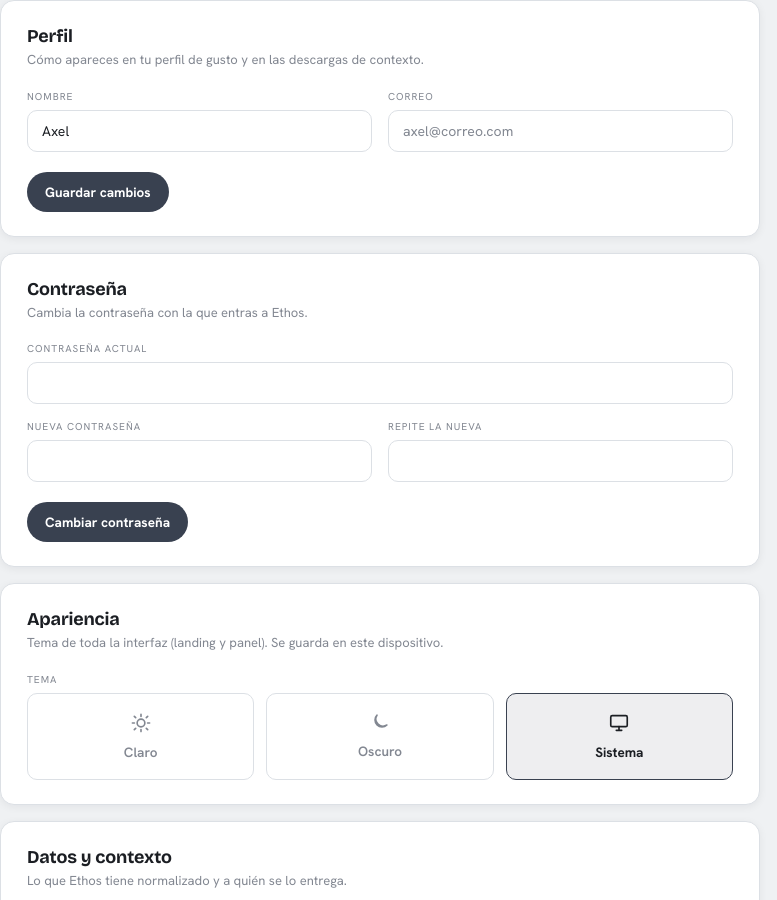
Test case: Settings › guarda el nombre editado en Supabase
Replace the text in the field named "Nombre" with "Axel HR" at (200, 130), box [27,110,372,152]
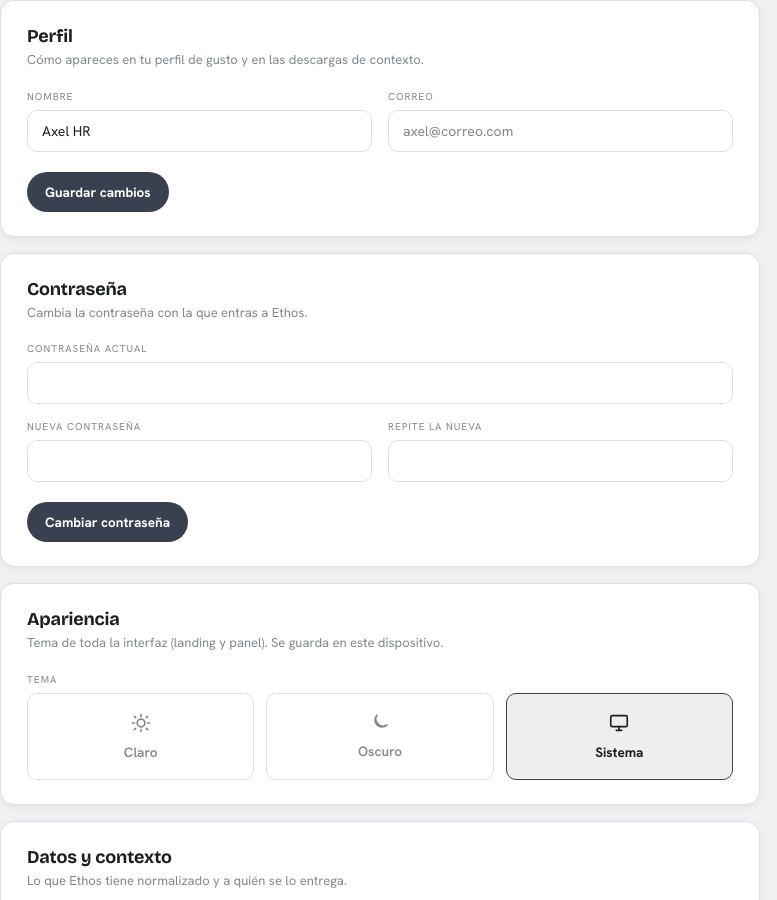
Click the button "Guardar cambios" at (98, 192), box [27,172,169,212]
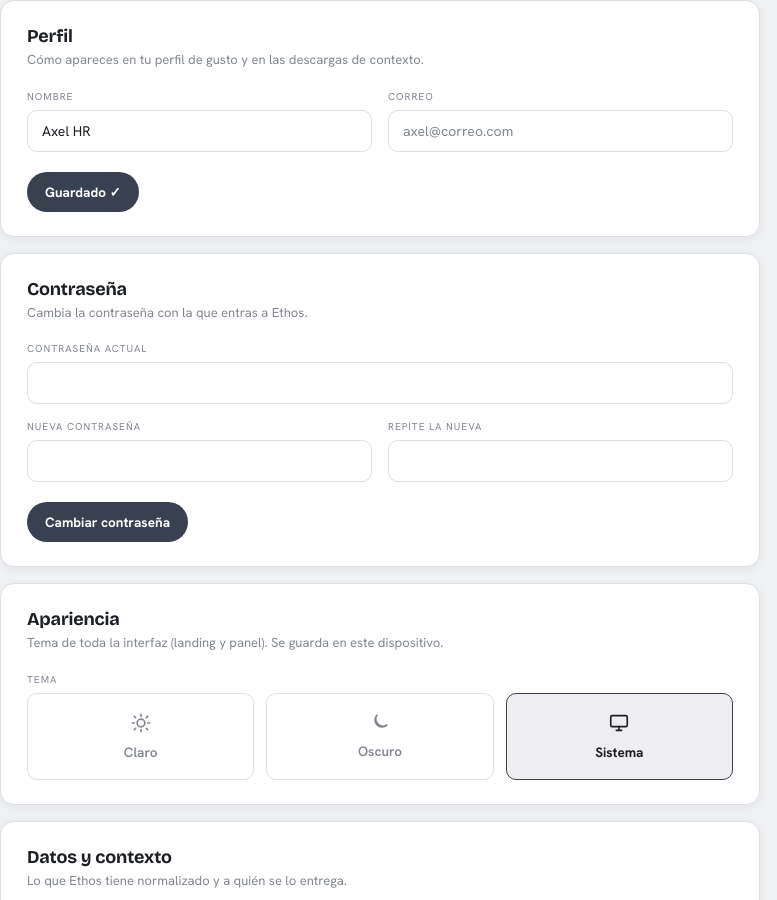
Check: the button "Guardado ✓" is shown, box [27,172,139,212]
